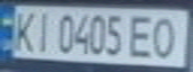0: (87, 11, 109, 56), (54, 10, 75, 55)
4: (72, 11, 93, 55)
5: (103, 11, 130, 58)
E: (124, 11, 160, 60)
I: (30, 8, 54, 53)
K: (9, 7, 39, 53)
O: (145, 12, 187, 61)
